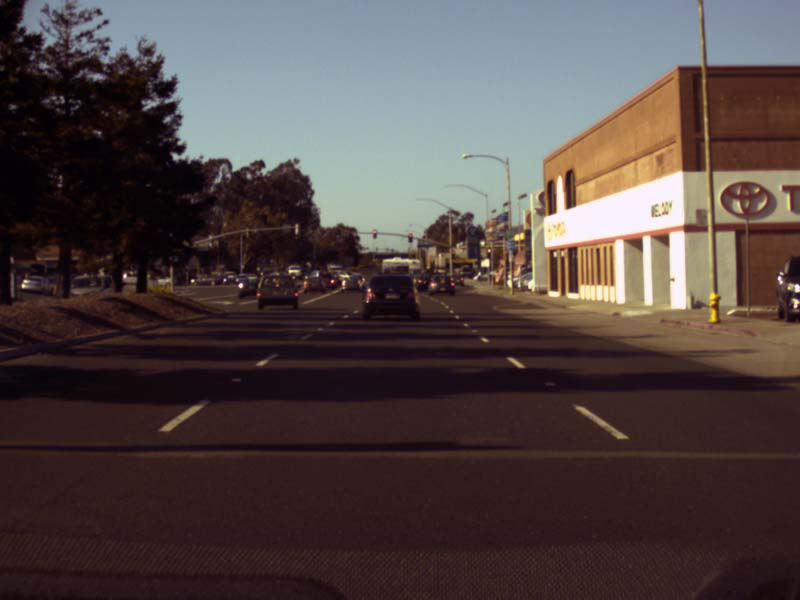Red: (407, 233, 413, 243), (372, 229, 377, 239)
